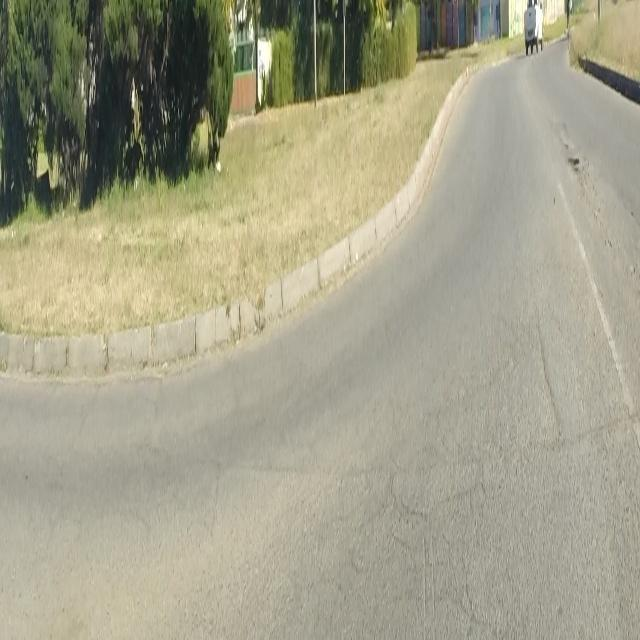pothole: (563, 151, 589, 176)
